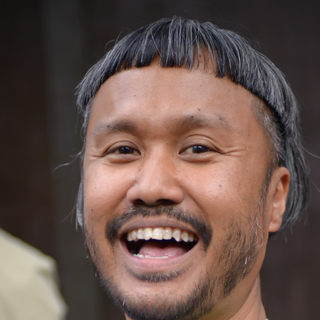eye: (176, 138, 225, 164), (100, 139, 146, 164)
